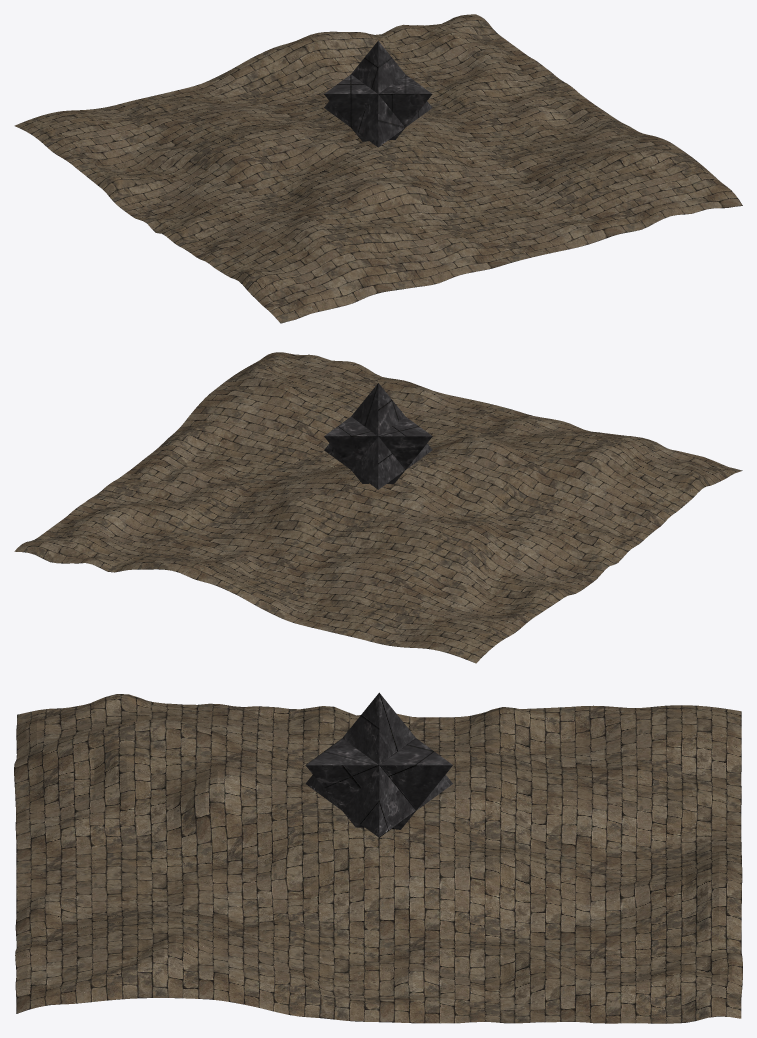
The model's file is tetra.glb.
The picture shows the model from 3 angles, top to bottom: view 1: azimuth 30°, elevation 25°; view 2: azimuth 150°, elevation 25°; view 3: azimuth 270°, elevation 25°; orthographic projection. The views are drawn at different scales.
Visible parts, largest first — view 1: Plane, Plane.001; view 2: Plane, Plane.001; view 3: Plane, Plane.001.
Boxes of the visible parts, <box> form: Plane: <box>14,14,742,323</box>; Plane.001: <box>324,41,432,147</box>; Plane: <box>14,352,742,663</box>; Plane.001: <box>324,383,432,489</box>; Plane: <box>14,694,742,1023</box>; Plane.001: <box>305,692,452,837</box>.
Size of the model in its own units: 8.05 by 2.17 by 8.05.
Materials: 2 (2 with a texture image).
